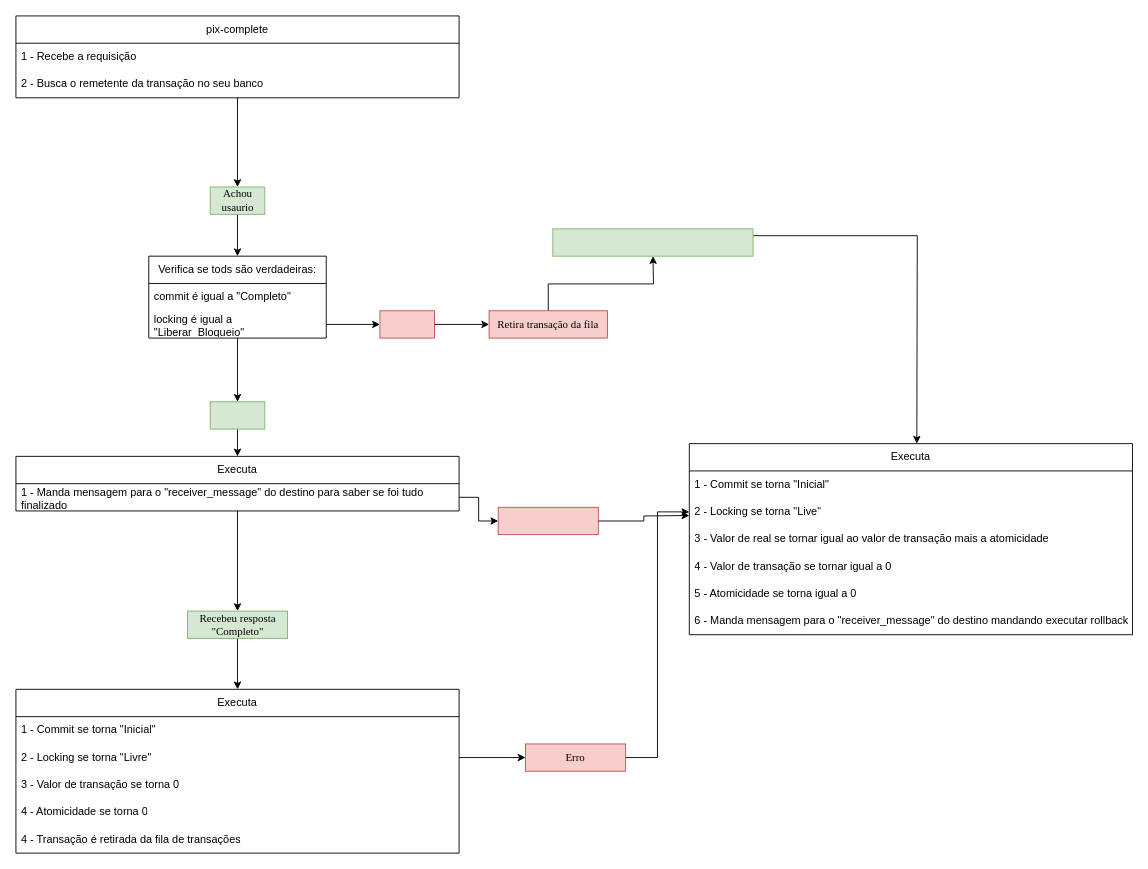
This 1148x869 diagram has some shape labels left out. The centre of each missing label's shape, as x and y in pixels:
"Adiciona transação retirada ao fim da fila de transações para tentar novamente" belongs at point (652, 242).
"Não" belongs at point (407, 324).
"Outra resposta ou erro" belongs at point (547, 520).
"Sim" belongs at point (237, 415).
